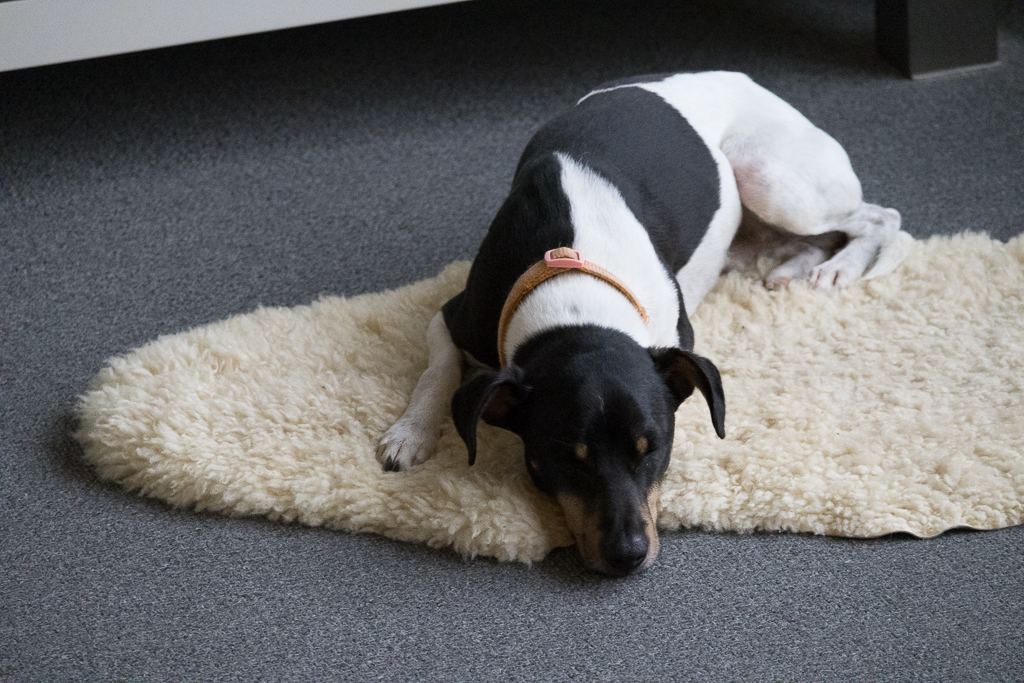Dog: (343, 47, 929, 602)
